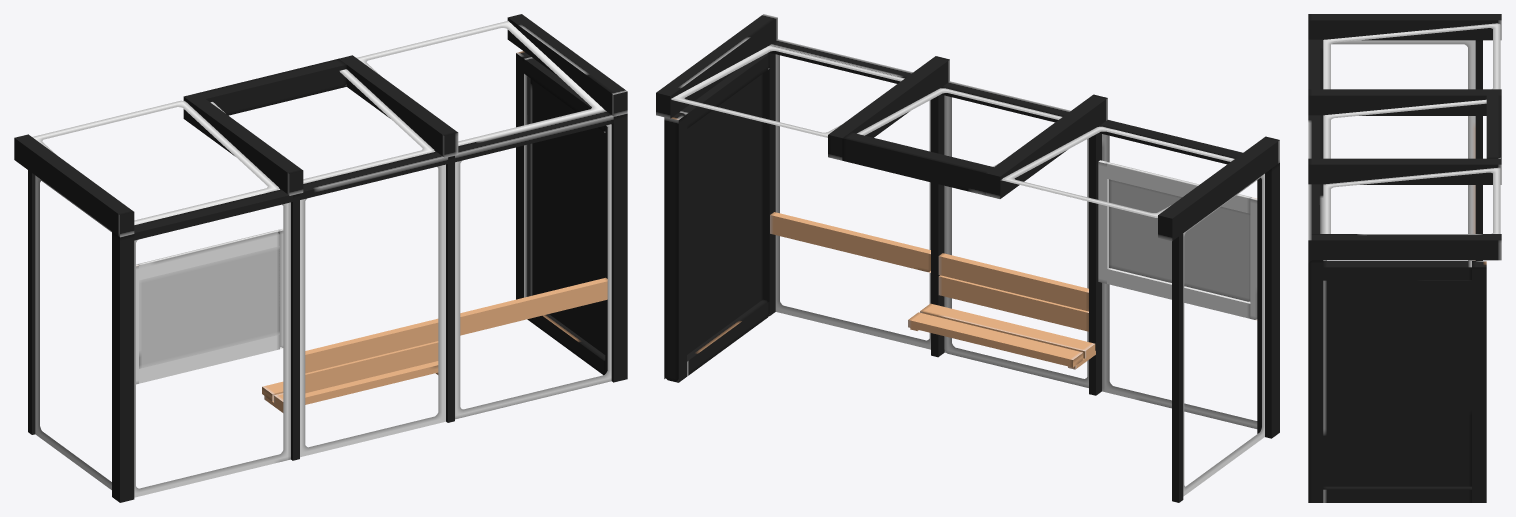
File: nl_bus_shelter_large_ad.obj
3 views of the same model, side by side, from view 1: azimuth 30°, elevation 25°; view 2: azimuth 150°, elevation 25°; view 3: azimuth 270°, elevation 25° (orthographic). The views are drawn at different scales.
Parts seen in each view (by area): view 1: 1ab, a, 4, b, 1, 3, 2, g3, g2, f, l, g4 (+12 smaller); view 2: 1ab, a, 4, b, 1, 3, 1f, 2, l, f, tt, 4f (+14 smaller); view 3: 1ab, 1, 2, 4, 3, 1f, 1t, 1b, b, g5, gt3, gt1 (+3 smaller).
Part boxes in pixels (left/top/right/bottom): 1ab: left=530, top=79, right=605, bottom=354; a: left=139, top=246, right=279, bottom=368; 4: left=14, top=134, right=134, bottom=502; b: left=134, top=110, right=613, bottom=383; 1: left=507, top=14, right=627, bottom=382; 3: left=183, top=93, right=303, bottom=460; 2: left=338, top=55, right=458, bottom=422; g3: left=300, top=164, right=445, bottom=457; g2: left=455, top=124, right=611, bottom=419; f: left=198, top=58, right=346, bottom=115; l: left=277, top=228, right=607, bottom=349; g4: left=134, top=202, right=290, bottom=497; 1ab: left=687, top=74, right=762, bottom=354; a: left=1109, top=179, right=1250, bottom=301; 4: left=1158, top=136, right=1279, bottom=438; b: left=769, top=39, right=1250, bottom=318; 1: left=656, top=14, right=777, bottom=315; 3: left=986, top=94, right=1107, bottom=395; 1f: left=664, top=112, right=686, bottom=382; 2: left=828, top=56, right=949, bottom=357; l: left=770, top=160, right=1108, bottom=283; f: left=842, top=132, right=993, bottom=195; tt: left=938, top=253, right=1088, bottom=311; 4f: left=1172, top=233, right=1183, bottom=502; 1ab: left=1323, top=280, right=1471, bottom=486; 1: left=1308, top=234, right=1501, bottom=502; 2: left=1308, top=158, right=1501, bottom=184; 4: left=1308, top=14, right=1501, bottom=40; 3: left=1308, top=89, right=1501, bottom=115; 1f: left=1472, top=261, right=1486, bottom=502; 1t: left=1323, top=261, right=1471, bottom=280; 1b: left=1323, top=486, right=1471, bottom=502; b: left=1308, top=39, right=1323, bottom=233; g5: left=1323, top=40, right=1475, bottom=260; gt3: left=1323, top=23, right=1500, bottom=89; gt1: left=1323, top=167, right=1500, bottom=233.
Size of the model in its own units: 4.5 by 2.44 by 1.62.
Materials: 1 (1 with a texture image).
